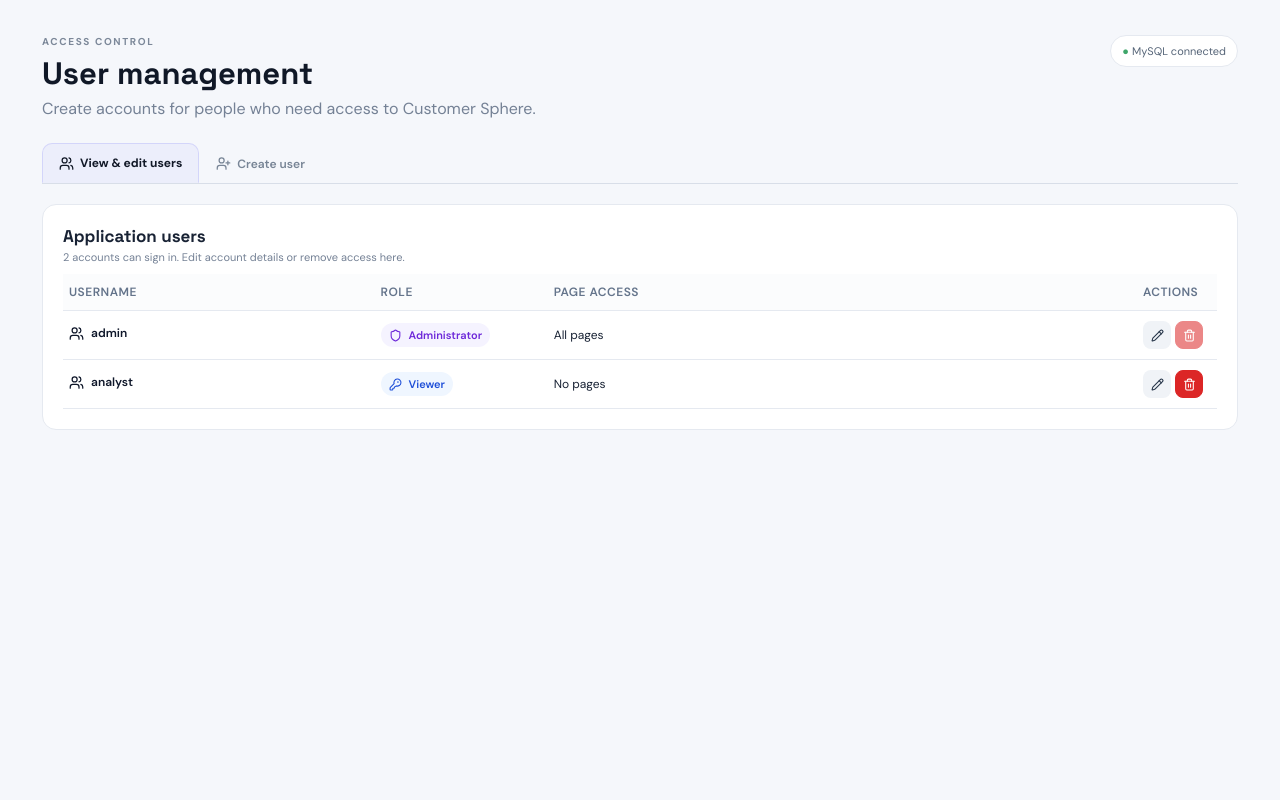
Test: User management page › updates an existing account username and optional password
Expected: the text "analyst" is shown, [69,374,133,390]
Click the button named "Edit analyst" at (1157, 384), box [1143,370,1171,398]
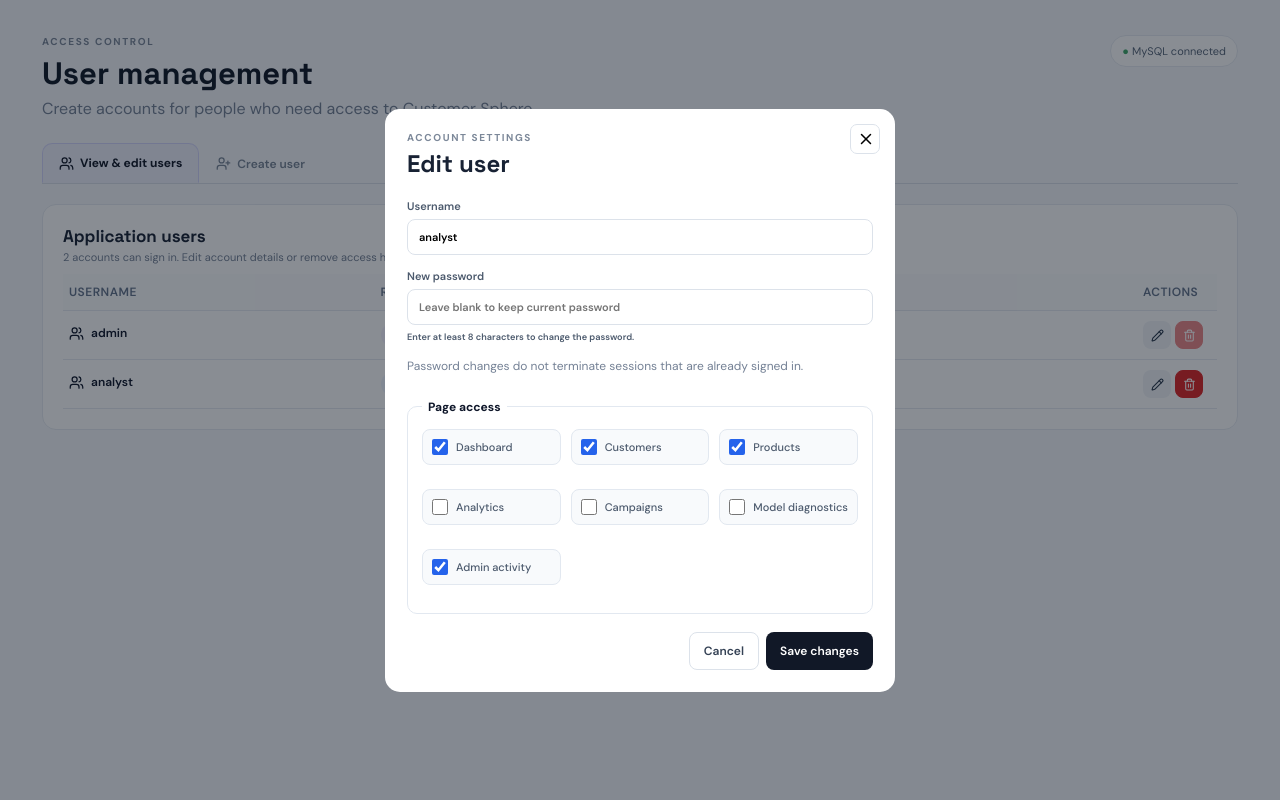
Replace the text in the field labelled "Username" with "renamed_analyst" at (640, 236), box [407,218,873,254]
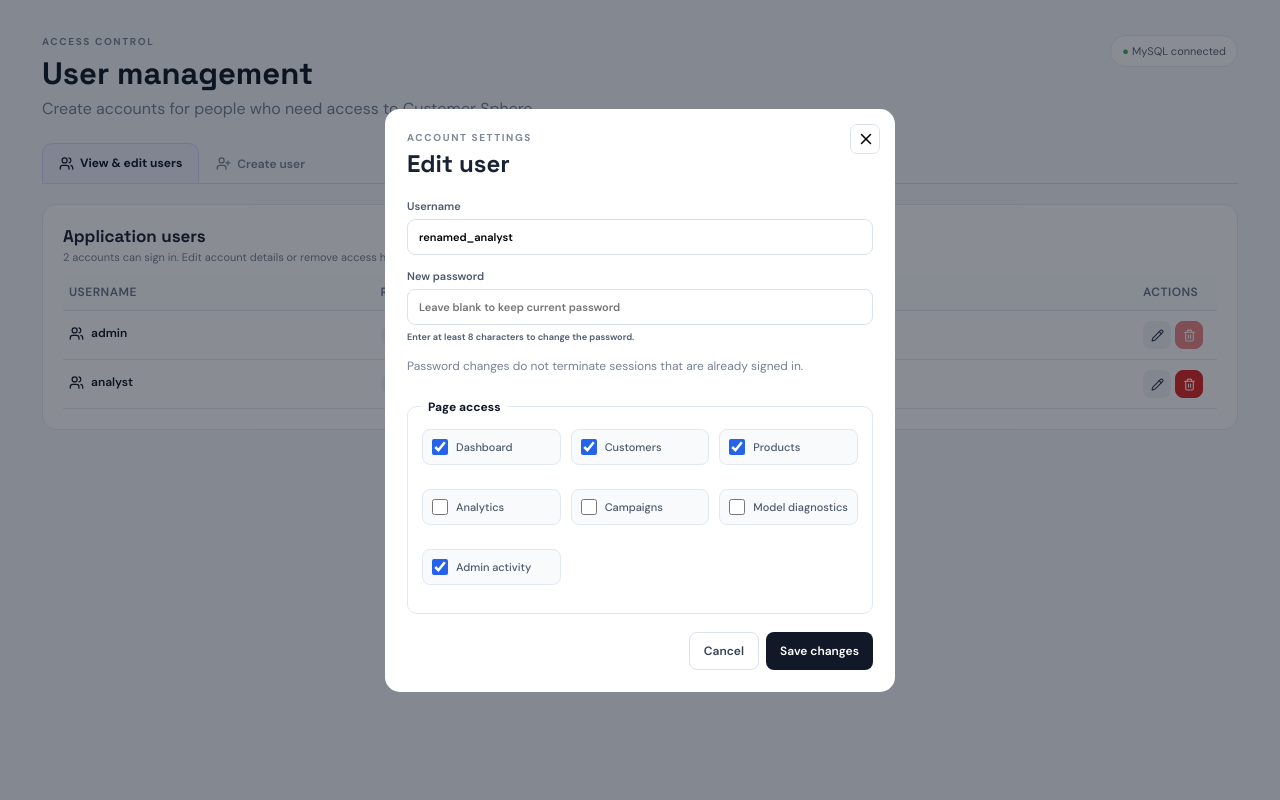
Type "replacement-password" into the password field labelled "New password" at (640, 306), box [407,288,873,324]
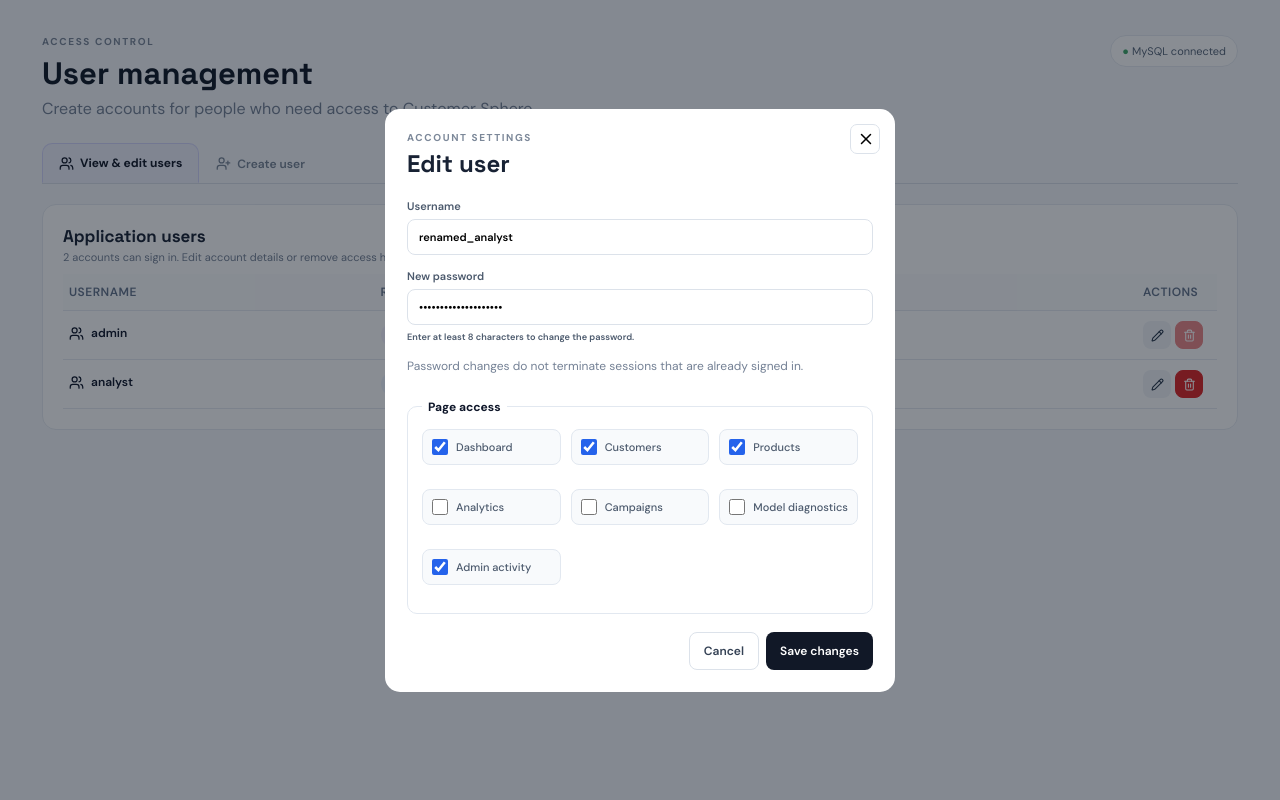
Submit the dialog named "Edit analyst", box [385,108,895,692]
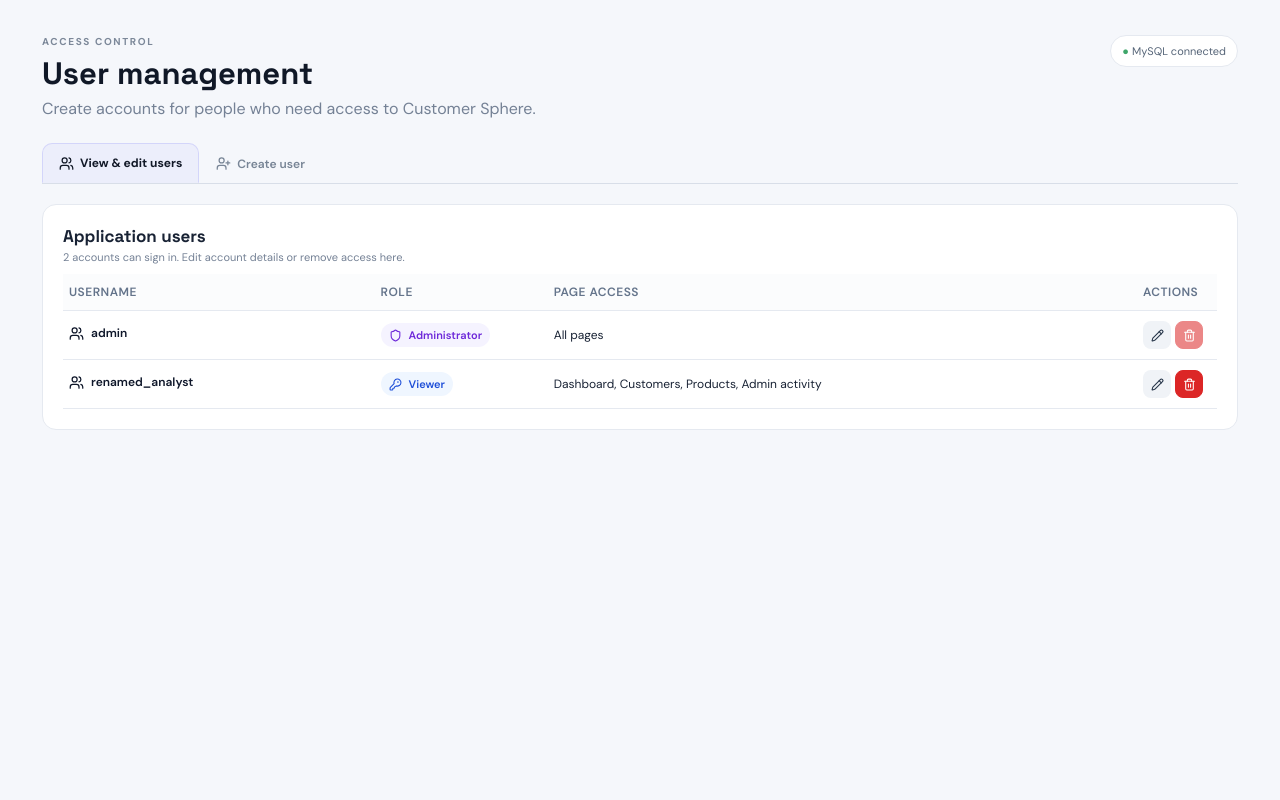
Expected: the text "renamed_analyst" is shown, [69,374,193,390]
